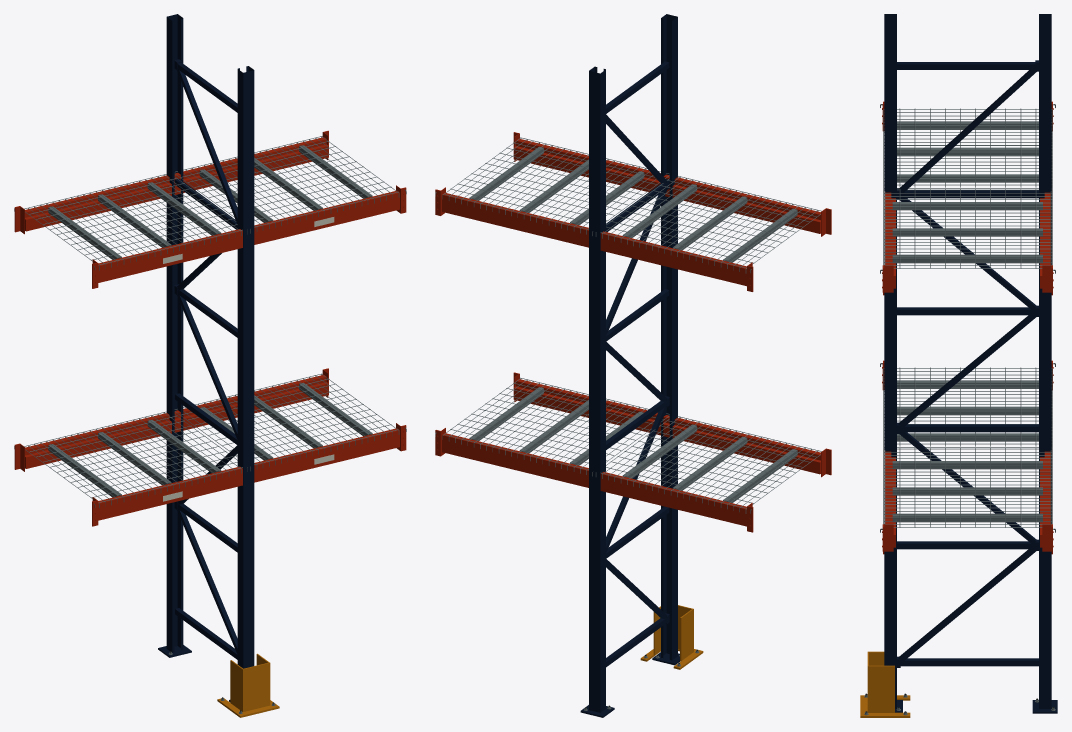
Rendered from connected-rack-modules.fbx.
3 views of the same model, side by side, from view 1: azimuth 30°, elevation 25°; view 2: azimuth 150°, elevation 25°; view 3: azimuth 270°, elevation 25° (orthographic). The views are drawn at different scales.
Parts seen in each view (by area): view 1: Bay_LOD0, Frame_LOD0; view 2: Bay_LOD0, Frame_LOD0; view 3: Bay_LOD0, Frame_LOD0.
Part boxes in pixels (left/top/right/bottom): Bay_LOD0: left=14, top=130, right=406, bottom=526; Frame_LOD0: left=158, top=14, right=279, bottom=717; Bay_LOD0: left=435, top=132, right=831, bottom=532; Frame_LOD0: left=580, top=14, right=703, bottom=717; Bay_LOD0: left=880, top=101, right=1055, bottom=554; Frame_LOD0: left=860, top=14, right=1057, bottom=717.
Size of what is drawn, in the model's own units: 253 by 488 by 126.
